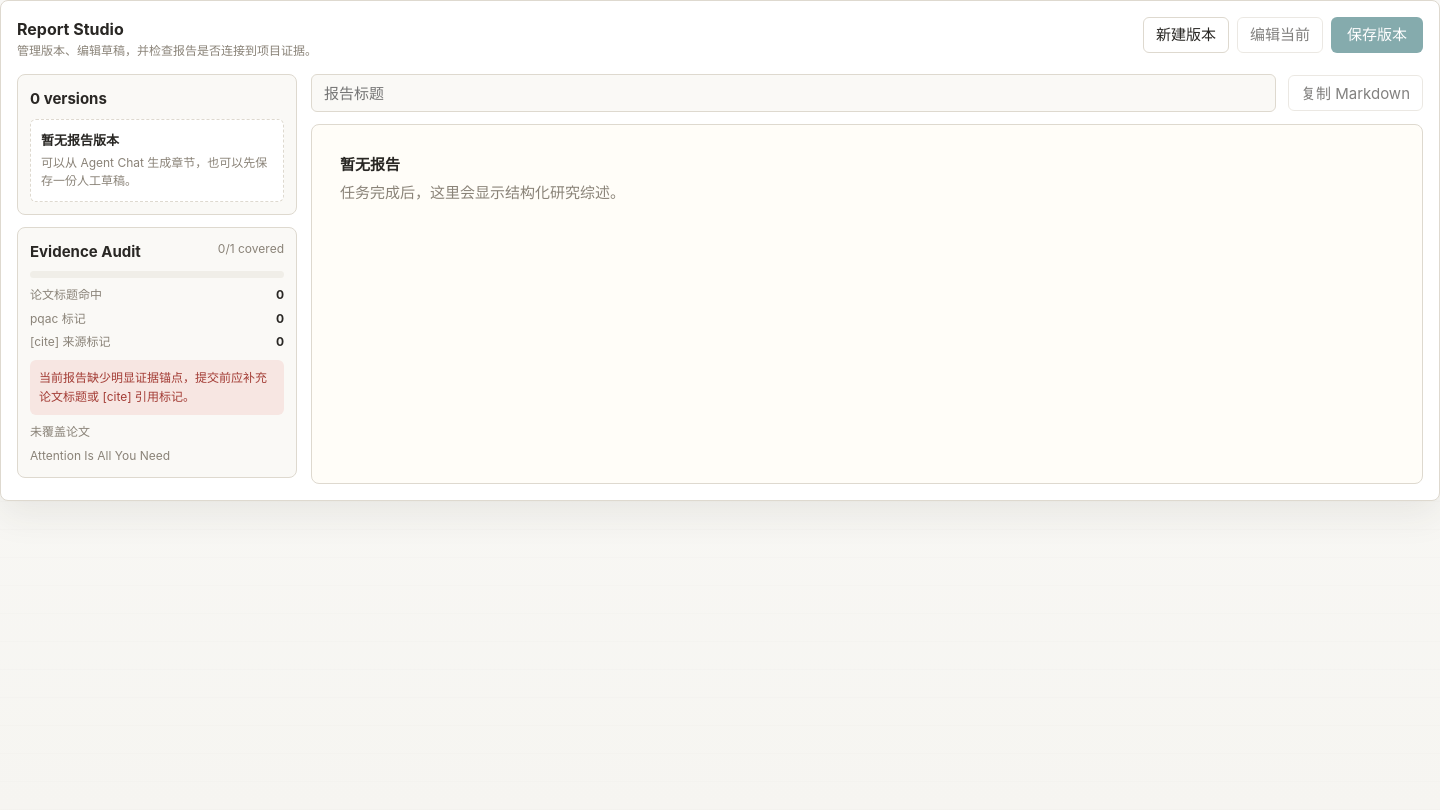
it: ReportStudio › shows a save error when saveReport rejects, without throwing
The image size is (1440, 810).
Click the button "新建版本" at point(1186, 35), box x1=1143 y1=17 x2=1229 y2=53
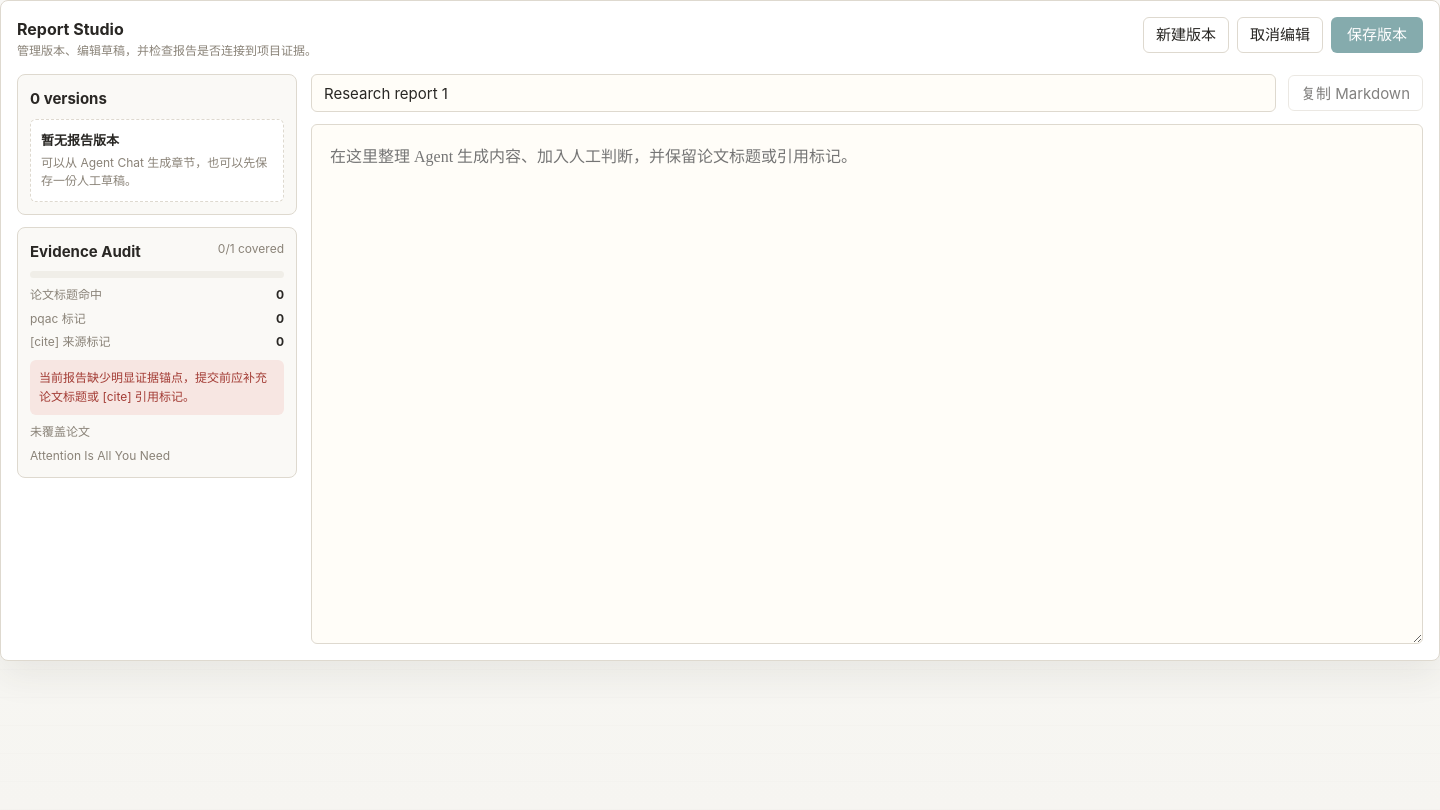
Replace the text in the field with "T" at point(794, 93), box x1=311 y1=74 x2=1276 y2=112
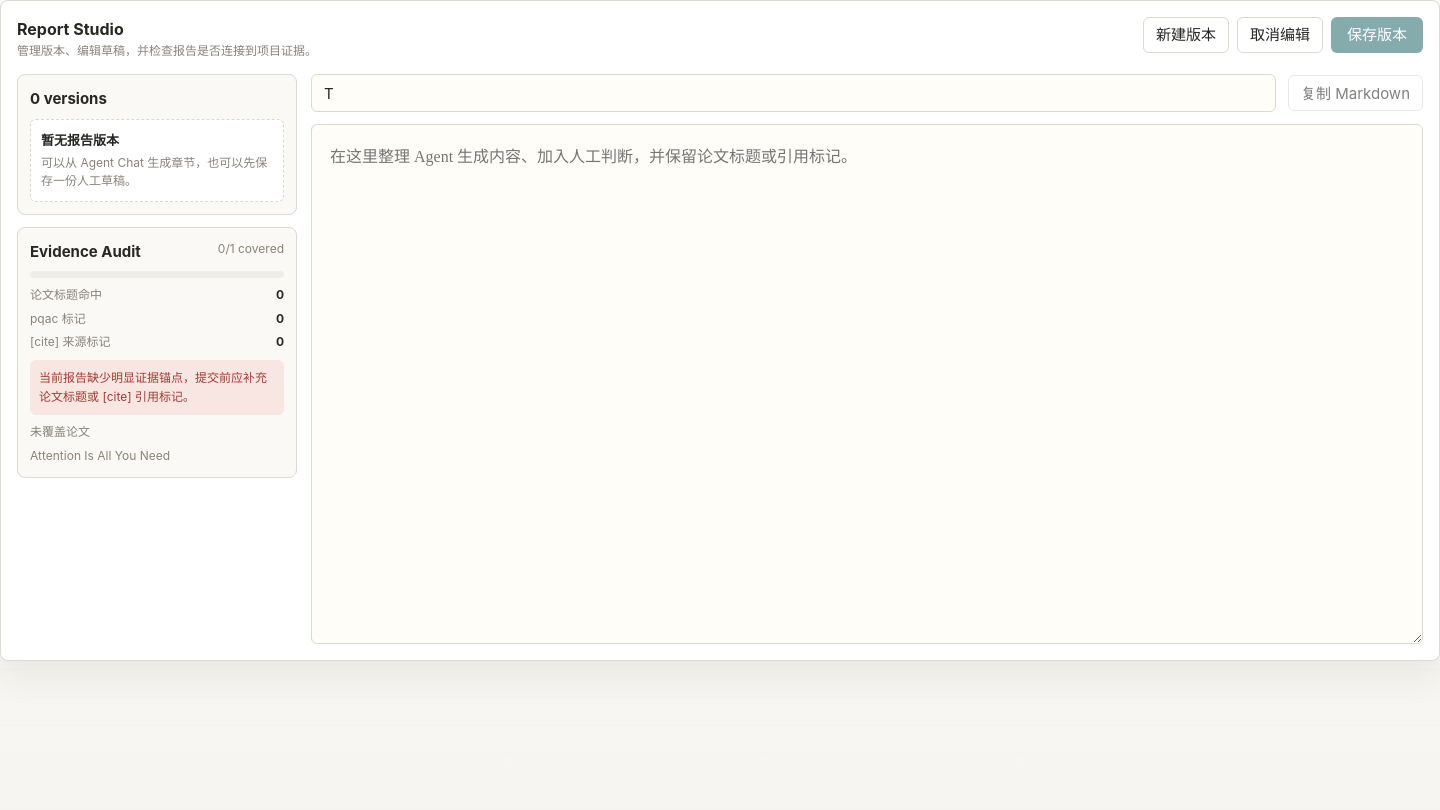
Type "C" into the text box with class "draft-editor" at point(867, 384), box x1=311 y1=124 x2=1423 y2=644
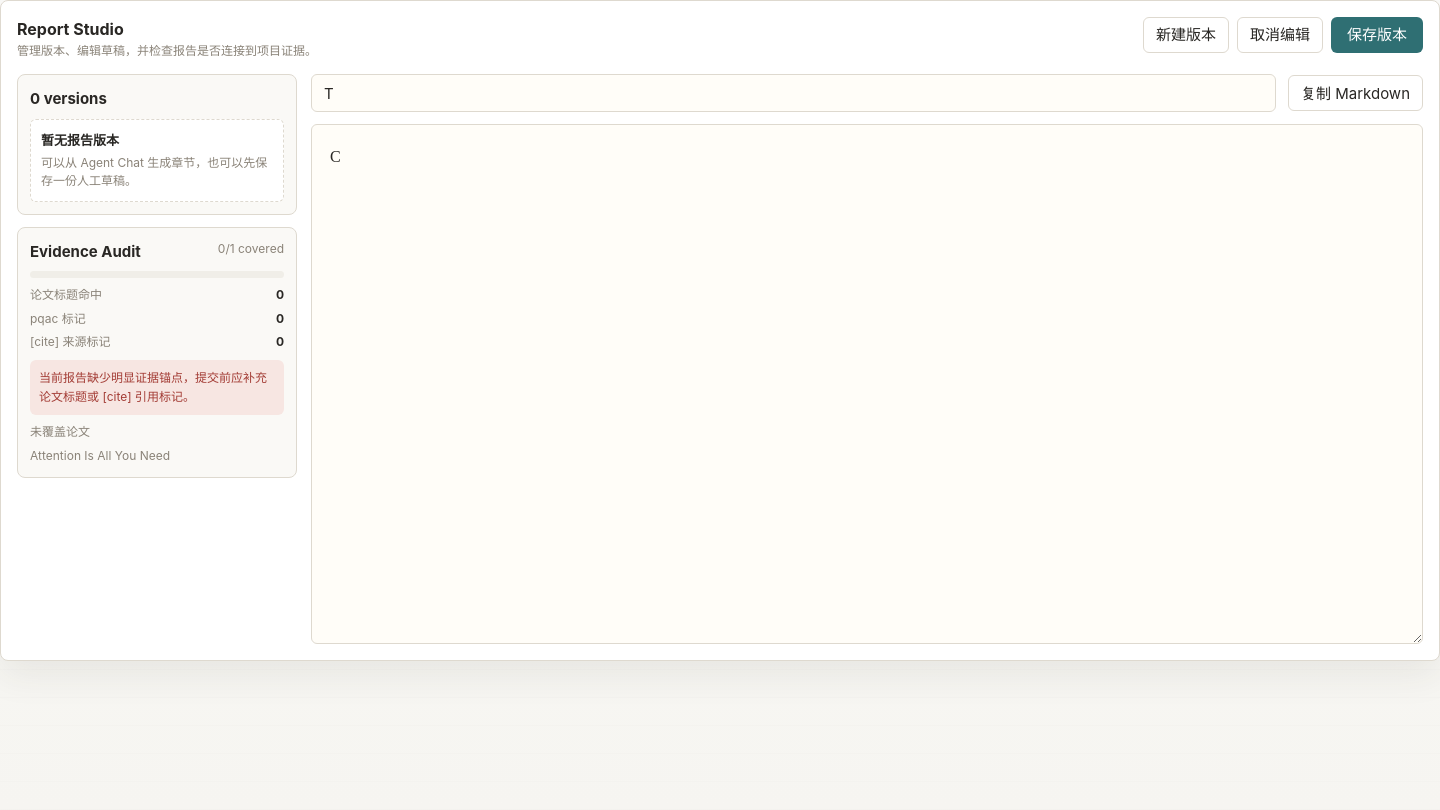
Click the button "保存版本" at point(1377, 35), box x1=1331 y1=17 x2=1423 y2=53
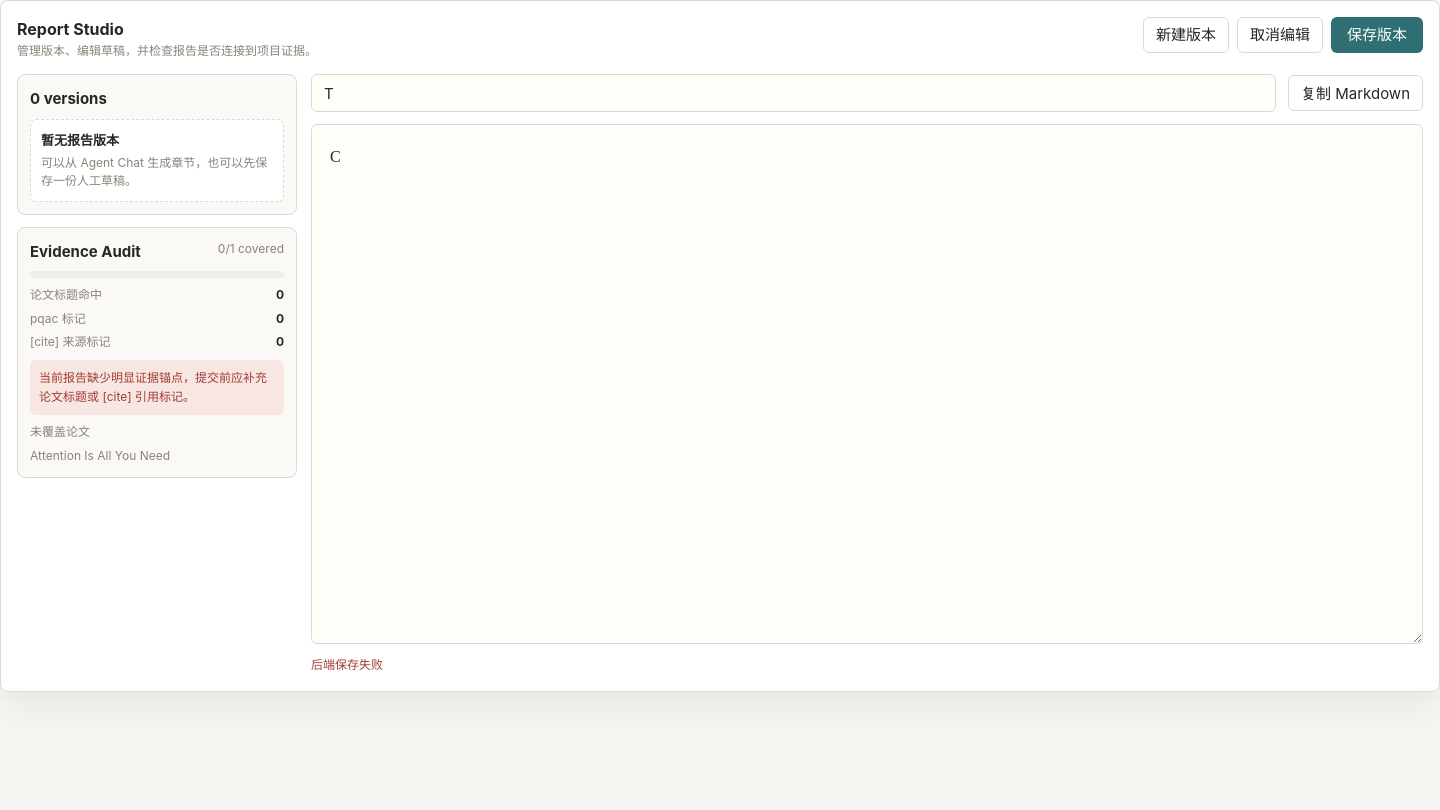
Result: the text with class "error-text" reads "后端保存失败" at x1=311 y1=657 x2=383 y2=672
